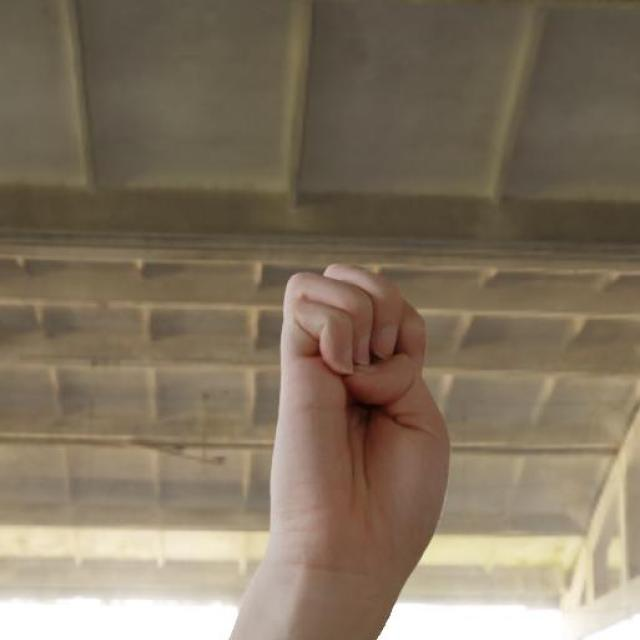E: (265, 257, 461, 571)
